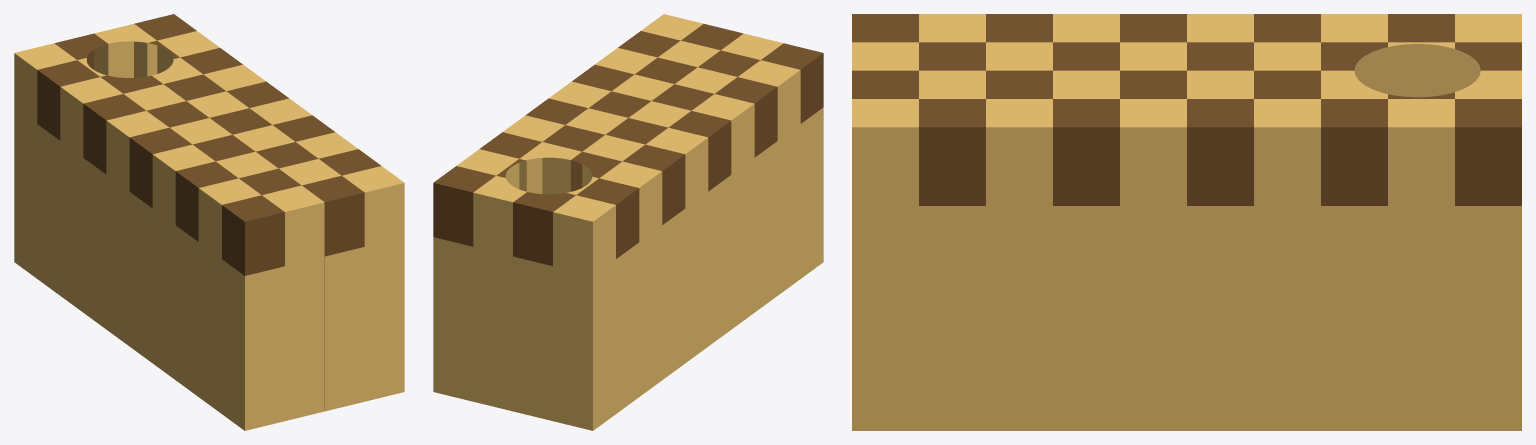
The model's file is Arena.fbx.
3 renders of one model, left to right at view 1: azimuth 30°, elevation 25°; view 2: azimuth 150°, elevation 25°; view 3: azimuth 270°, elevation 25°, orthographic. The views are drawn at different scales.
Parts seen in each view (by area): view 1: Arena; view 2: Arena; view 3: Arena.
Boxes of the visible parts, box(x1,y1,x2,y2) form: Arena: box(14, 14, 404, 430); Arena: box(433, 14, 823, 430); Arena: box(852, 14, 1521, 430).
Bounding box in the file's own units: 39.99 × 50 × 99.96.
